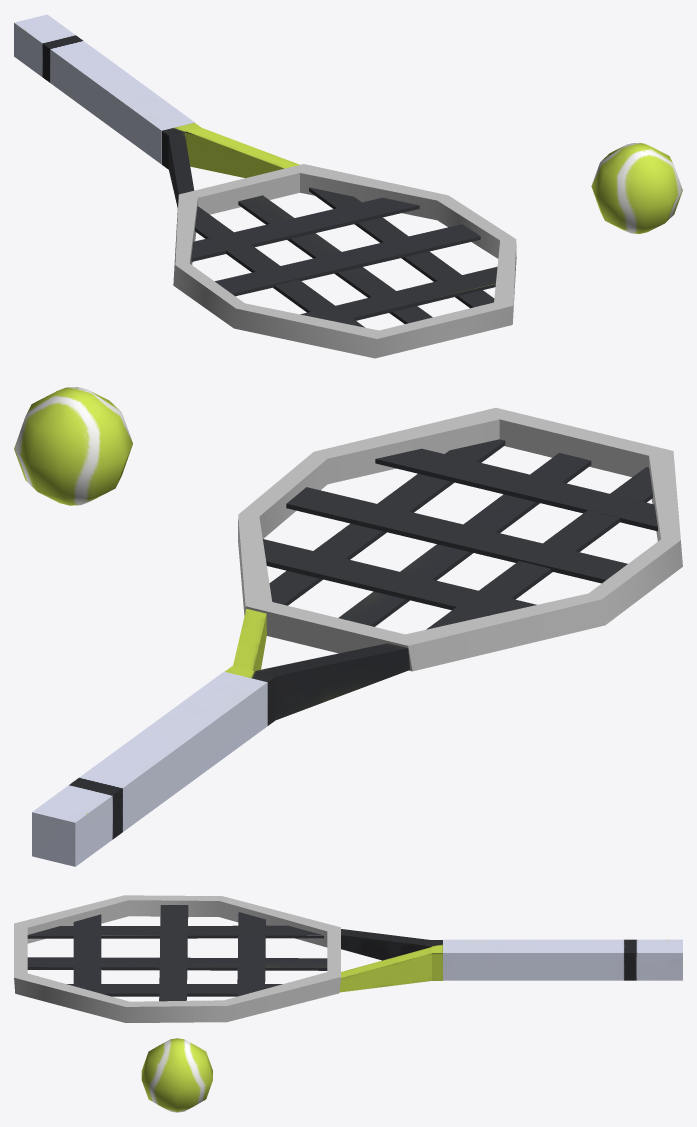
File: Rockaet and ball.fbx
3 renders of one model, top to bottom at view 1: azimuth 30°, elevation 25°; view 2: azimuth 150°, elevation 25°; view 3: azimuth 270°, elevation 25°, orthographic. The views are drawn at different scales.
Parts seen in each view (by area): view 1: pasted__polySurface10.001, pCube1, pSphere1, pasted__pasted__pCube2, pasted__pasted__pasted__pasted__pCube2, pasted__pasted__pasted__pasted__pCube2.001, pCube2, pasted__pCube2, pasted__pasted__pCube2.001; view 2: pasted__polySurface10.001, pCube1, pSphere1, pasted__pasted__pCube2, pasted__pasted__pasted__pasted__pCube2.001, pasted__pasted__pasted__pasted__pCube2, pasted__pCube2, pCube2, pasted__pasted__pCube2.001; view 3: pCube1, pasted__polySurface10.001, pSphere1, pasted__pCube2, pCube2, pasted__pasted__pCube2, pasted__pasted__pasted__pasted__pCube2.001, pasted__pasted__pasted__pasted__pCube2, pasted__pasted__pCube2.001.
Boxes of the visible parts, x1,y1,x2,y2 form: pasted__polySurface10.001: [173, 164, 516, 358]; pCube1: [14, 14, 299, 207]; pSphere1: [591, 143, 682, 233]; pasted__pasted__pCube2: [215, 224, 480, 296]; pasted__pasted__pasted__pasted__pCube2: [191, 197, 419, 261]; pasted__pasted__pasted__pasted__pCube2.001: [300, 266, 497, 321]; pCube2: [195, 206, 364, 327]; pasted__pCube2: [238, 195, 432, 323]; pasted__pasted__pCube2.001: [309, 187, 494, 308]; pasted__polySurface10.001: [238, 407, 682, 671]; pCube1: [32, 608, 409, 866]; pSphere1: [14, 387, 132, 505]; pasted__pasted__pCube2: [286, 487, 627, 583]; pasted__pasted__pasted__pasted__pCube2.001: [375, 448, 657, 531]; pasted__pasted__pasted__pasted__pCube2: [263, 539, 536, 615]; pasted__pCube2: [338, 453, 591, 626]; pCube2: [426, 467, 652, 629]; pasted__pasted__pCube2.001: [269, 439, 505, 605]; pCube1: [339, 929, 682, 992]; pasted__polySurface10.001: [14, 895, 340, 1022]; pSphere1: [141, 1038, 212, 1112]; pasted__pCube2: [27, 957, 327, 970]; pCube2: [27, 925, 323, 938]; pasted__pasted__pCube2: [159, 905, 188, 1001]; pasted__pasted__pasted__pasted__pCube2.001: [73, 914, 101, 993]; pasted__pasted__pasted__pasted__pCube2: [237, 912, 265, 996]; pasted__pasted__pCube2.001: [67, 984, 282, 996].
Size of the model in its own units: 836 by 140 by 1250.
